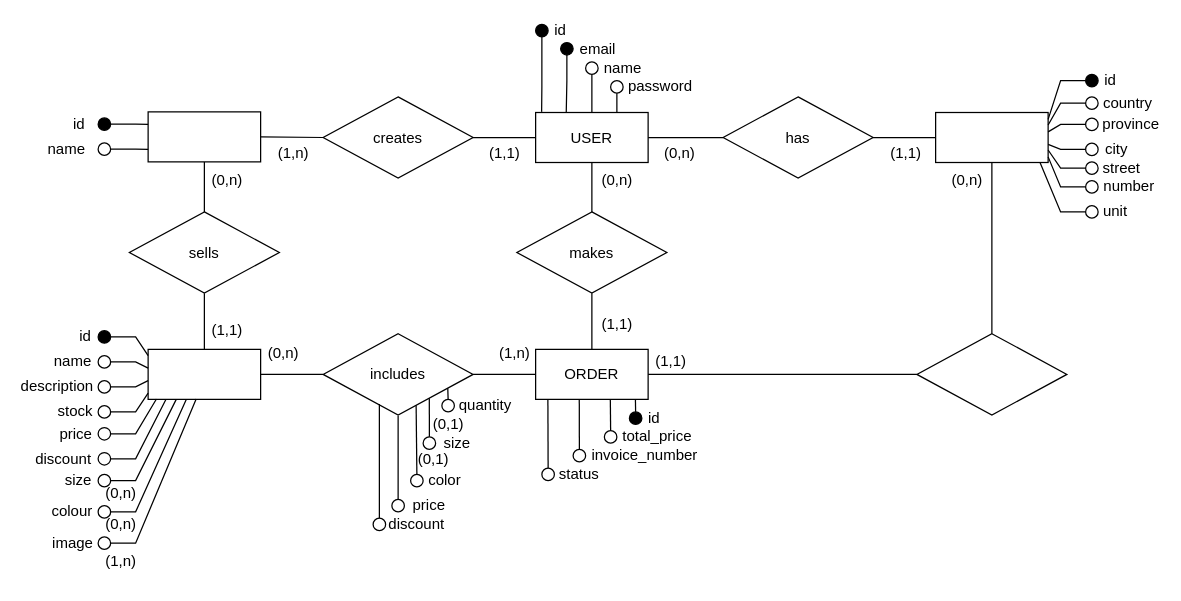
This 1181x601 diagram has some shape labels left out. Here are the shapes that lost their labels. From the top down, the centre of each, then its label:
point (204, 136): STORE
point (991, 136): ADDRESS
point (204, 373): PRODUCTS
point (991, 373): ships to
